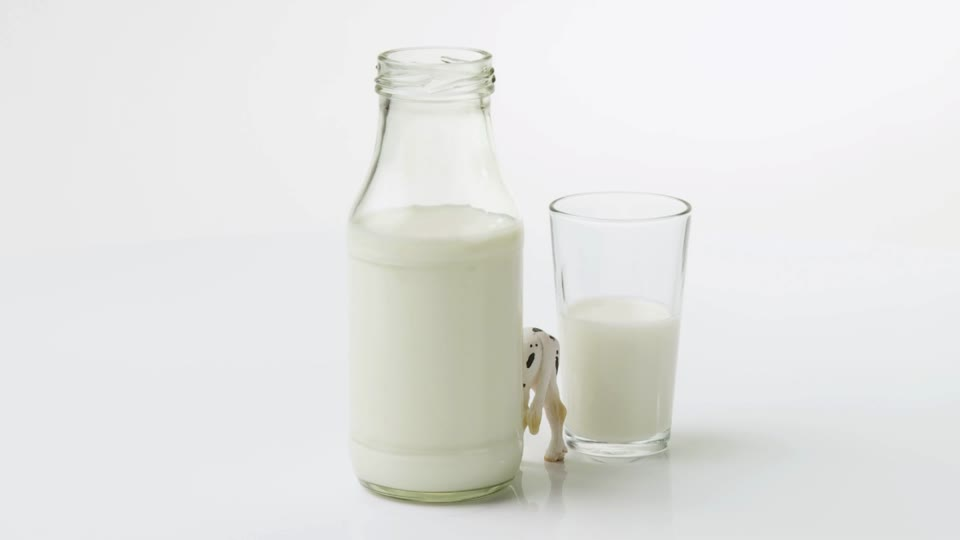glass of milk: (374, 69, 506, 496), (560, 206, 687, 469)
